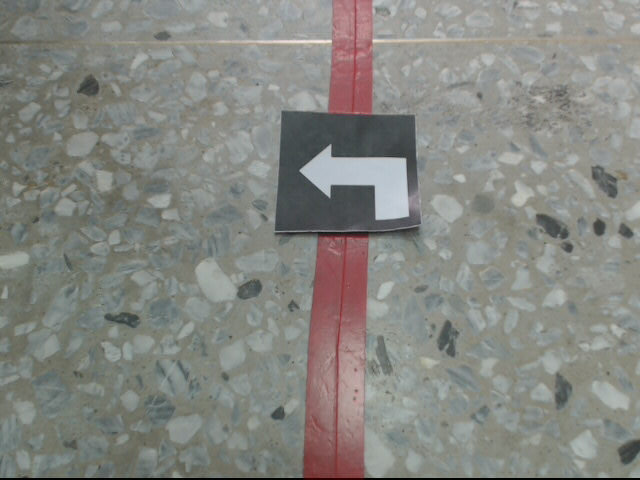left: (276, 110, 421, 236)
